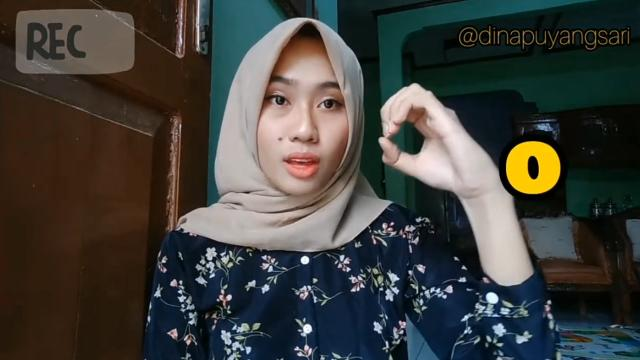O: (376, 81, 500, 197)
